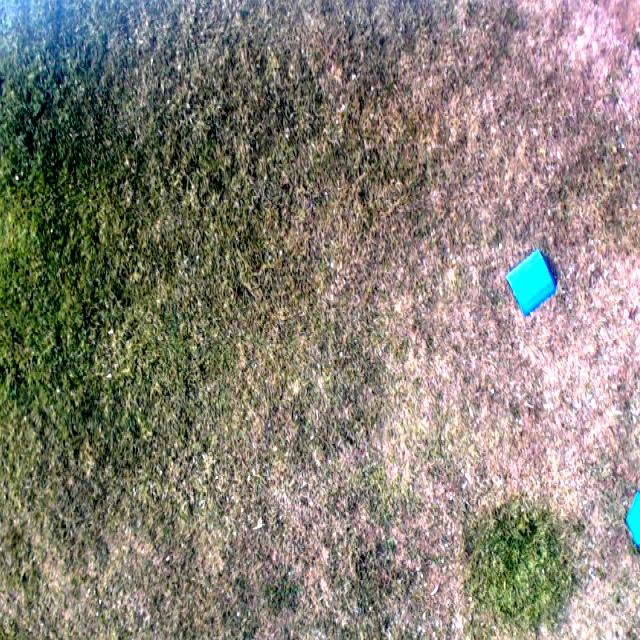blue_square: (507, 250, 556, 319)
